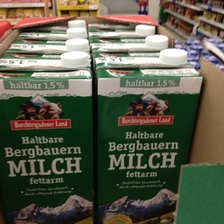milk: (96, 50, 205, 224), (1, 54, 93, 224)
